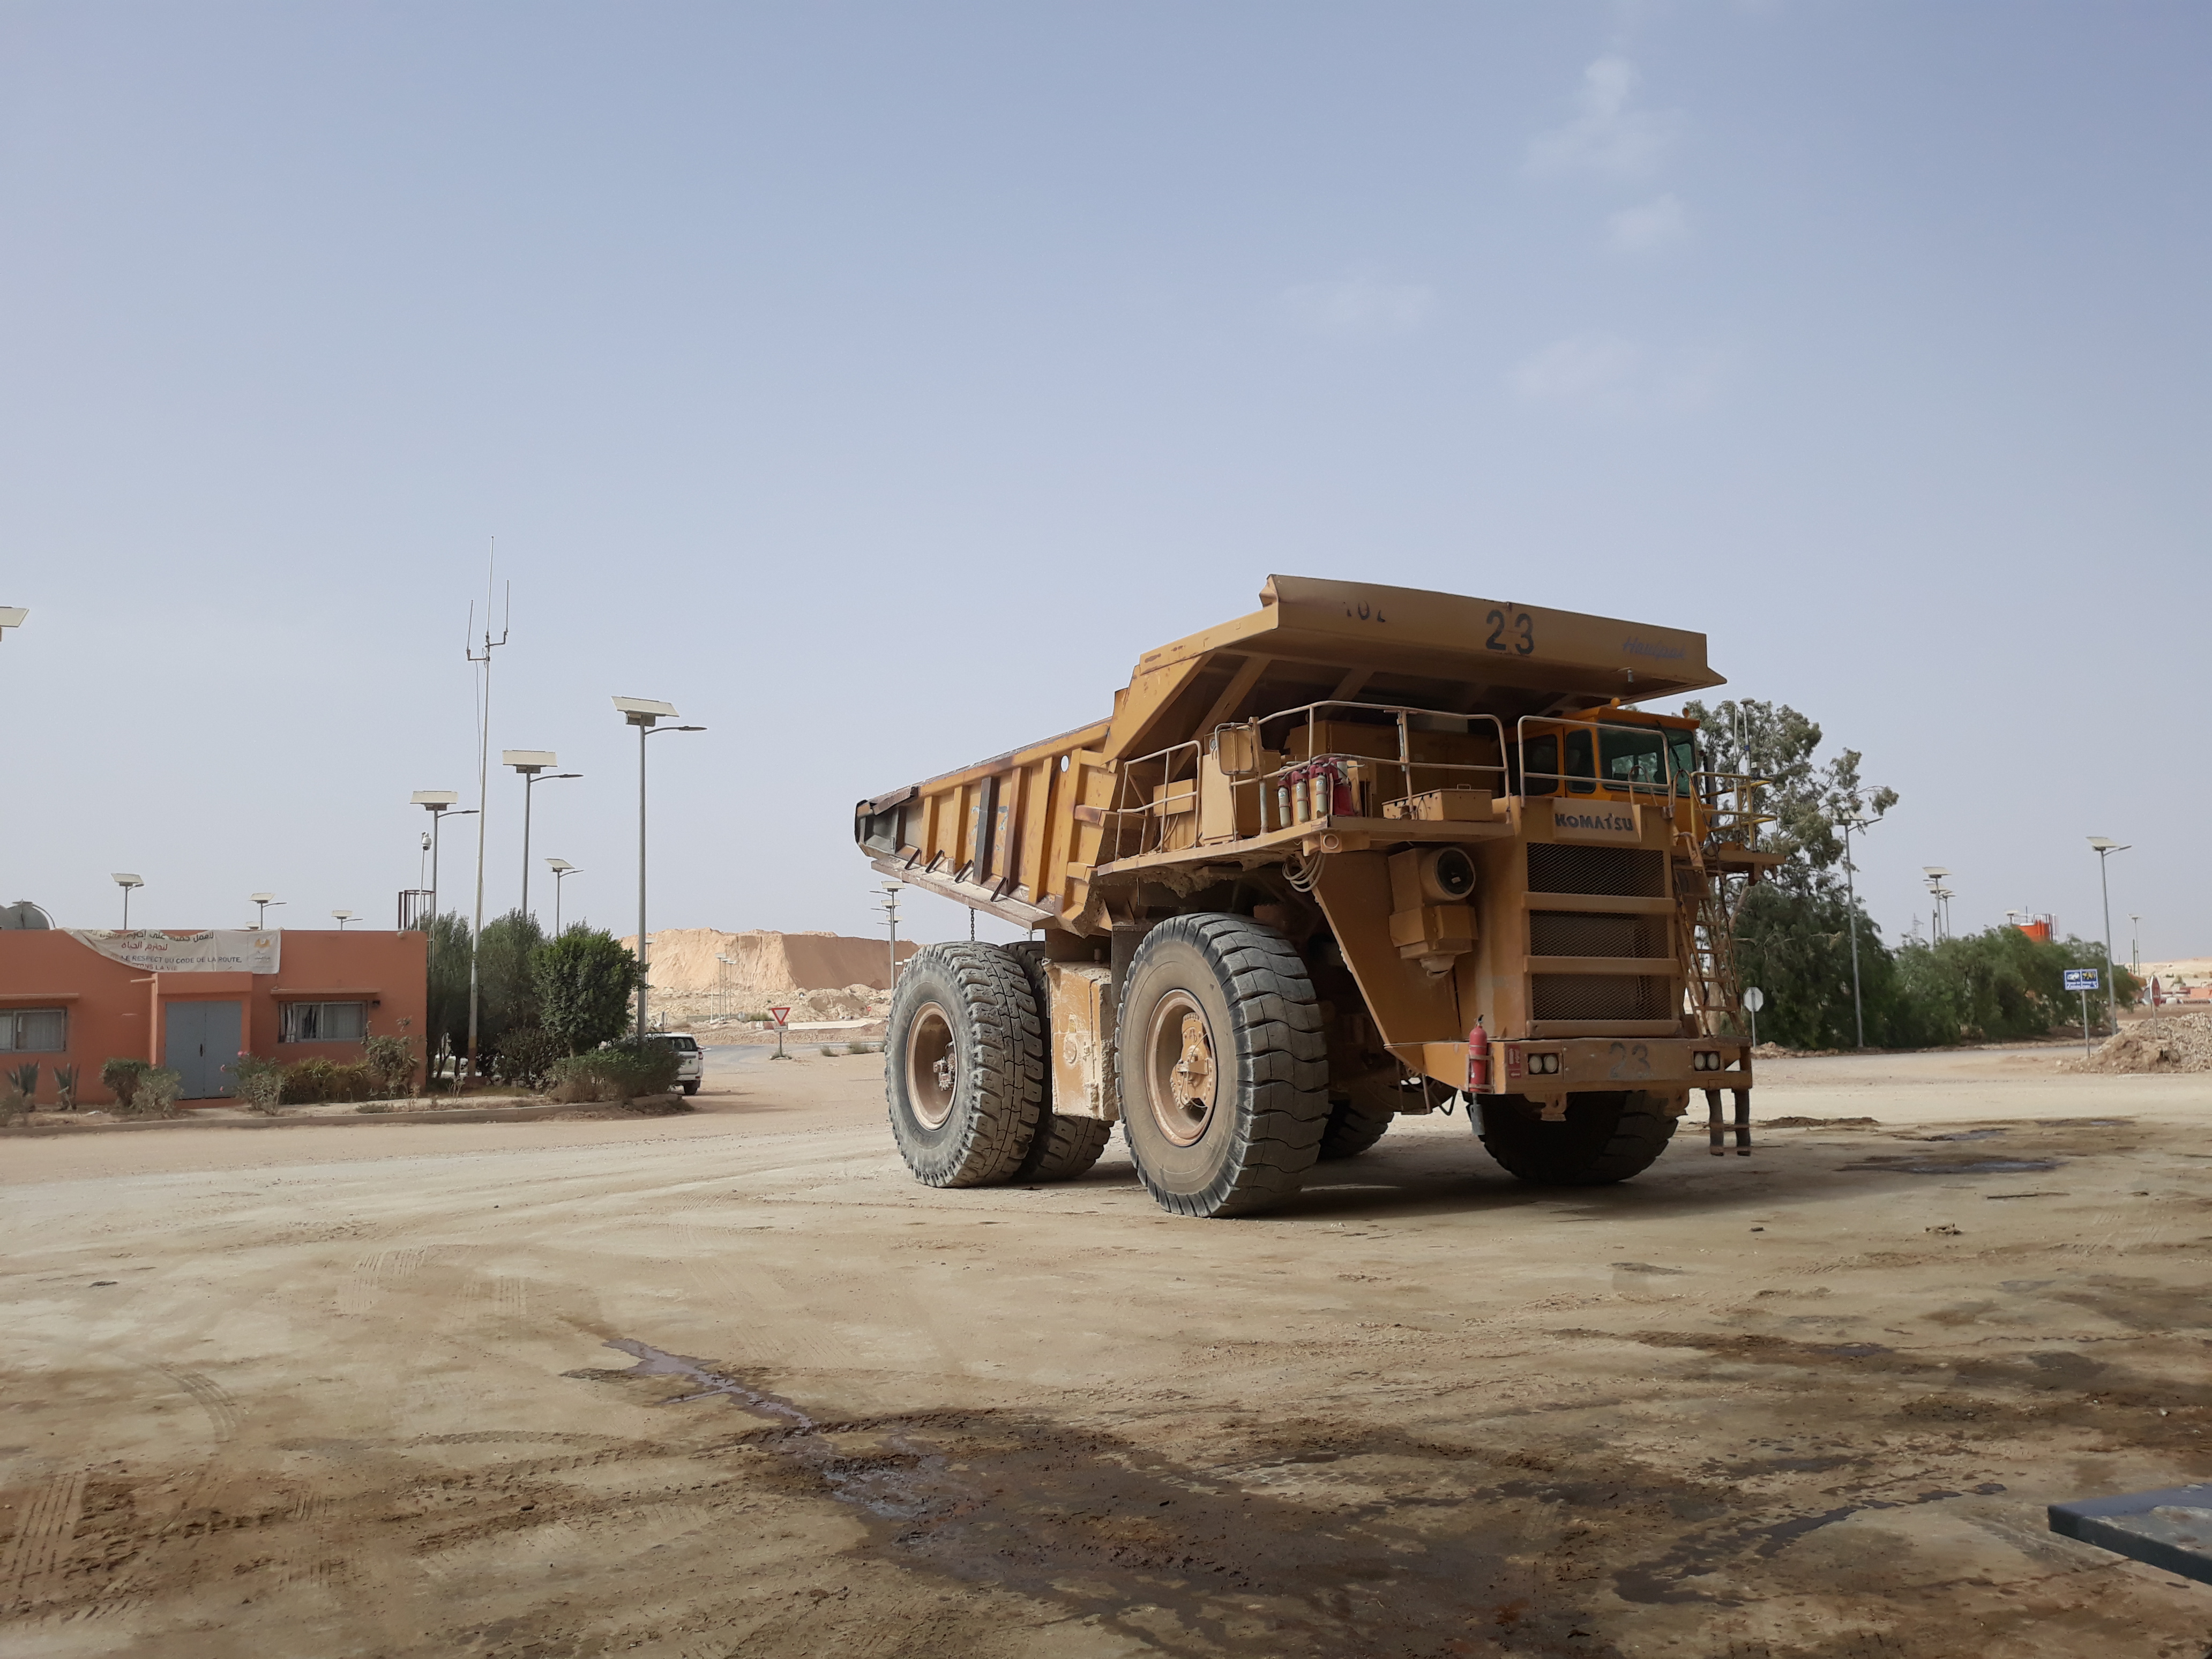camion: (850, 558, 1789, 1236)
car: (617, 1018, 707, 1117)
